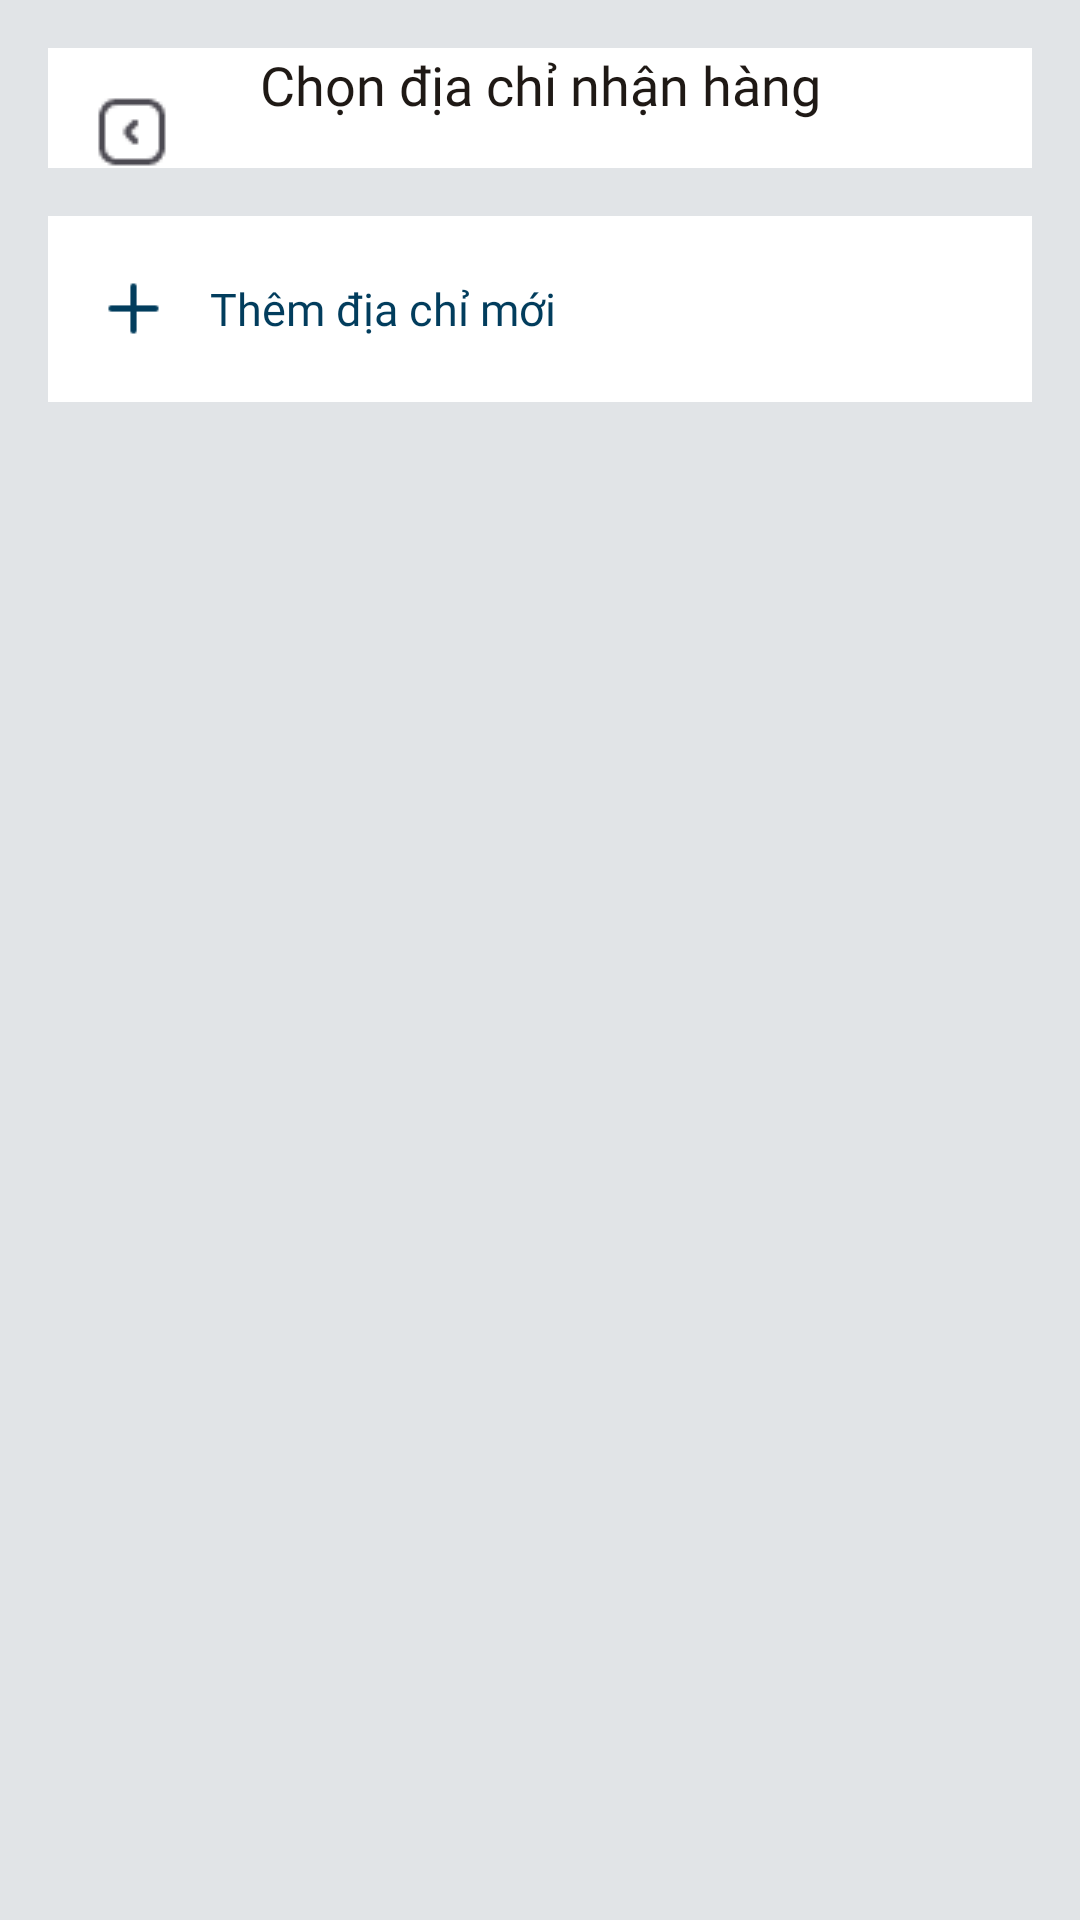

Where to tap for icons on this 1080w x 1920h app screen, as (x=x, y=y):
add: (x=133, y=308)
square arrow left: (x=132, y=132)
